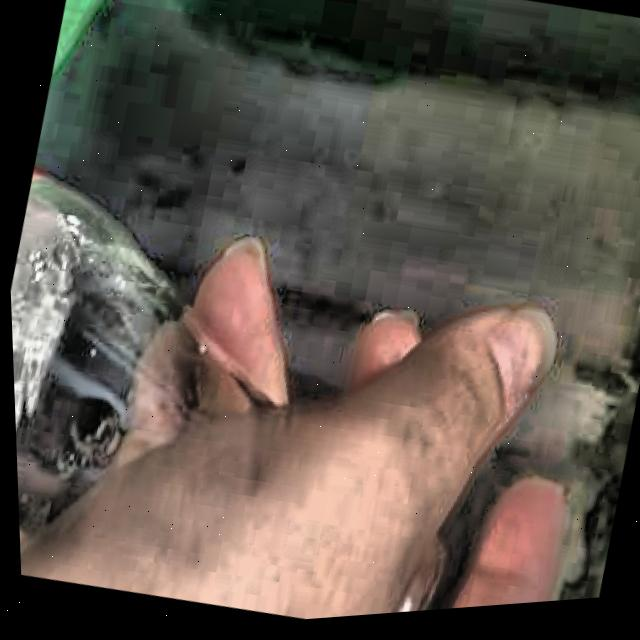glass: (8, 169, 238, 528)
